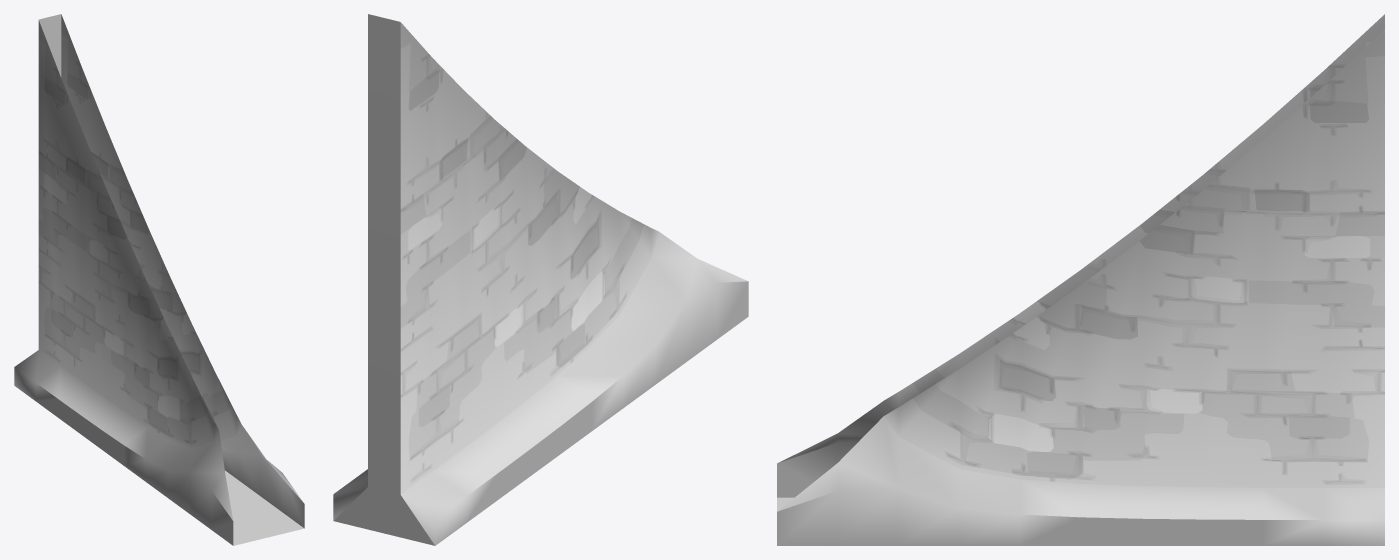
The model's file is SM_Bld_Kawara_M_Gable_01.fbx.
3 renders of one model, left to right at view 1: azimuth 30°, elevation 25°; view 2: azimuth 150°, elevation 25°; view 3: azimuth 270°, elevation 25°, orthographic. The views are drawn at different scales.
Visible parts, largest first — view 1: SM_Bld_Kawara_M_Gable_01; view 2: SM_Bld_Kawara_M_Gable_01; view 3: SM_Bld_Kawara_M_Gable_01.
Part boxes in pixels (x1,y1,x2,y2): SM_Bld_Kawara_M_Gable_01: (14, 14, 304, 545); SM_Bld_Kawara_M_Gable_01: (333, 14, 748, 545); SM_Bld_Kawara_M_Gable_01: (777, 14, 1384, 545).
Bounding box in the file's own units: 0.6109 × 2.95 × 3.25.
